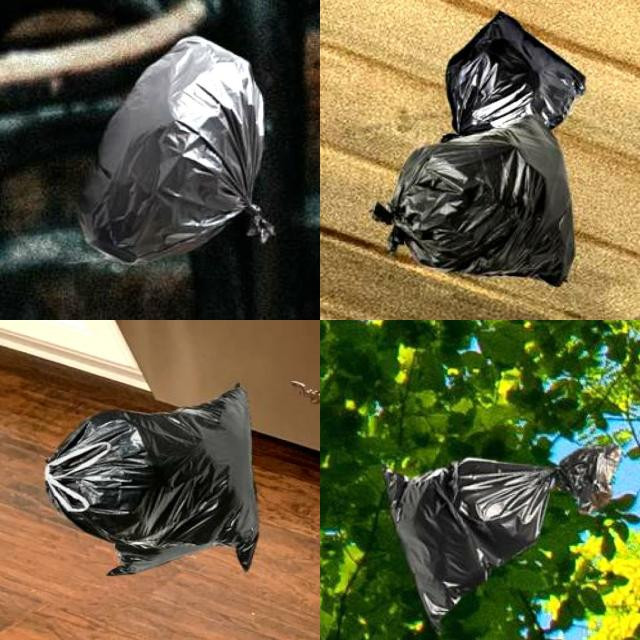Single-layer Plastic: (384, 445, 621, 629), (80, 36, 271, 262), (45, 385, 259, 574), (374, 116, 575, 285), (446, 12, 585, 136)
